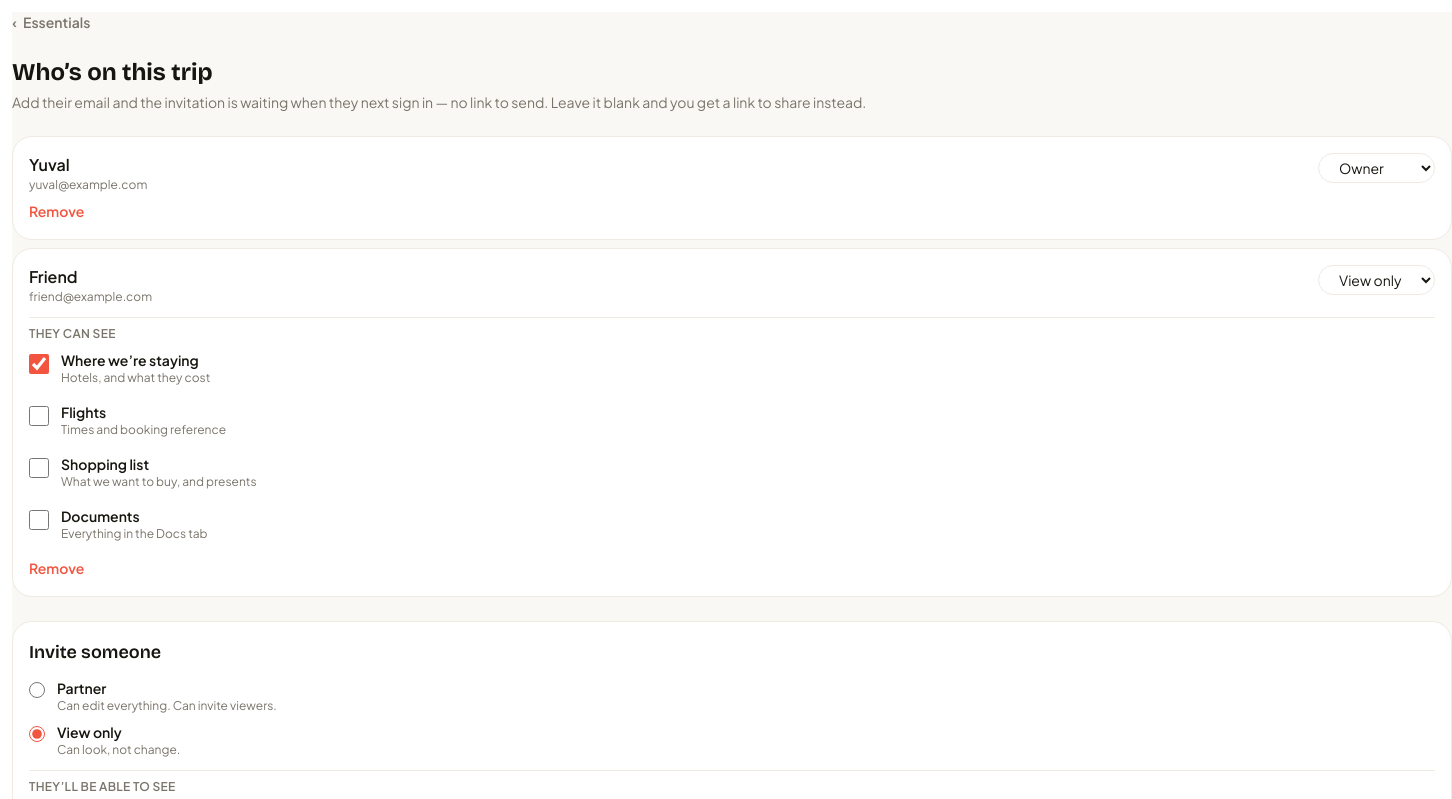
it: the roster adapts to your role › saves a member’s access on a button, not on every click
Check: the text "Friend" is shown, box [29,266,78,287]
Check: the button "Save changes" is not shown
Step 1. Click the checkbox labelled "Flights Times and booking reference" → (39, 416), box [29,406,49,426]
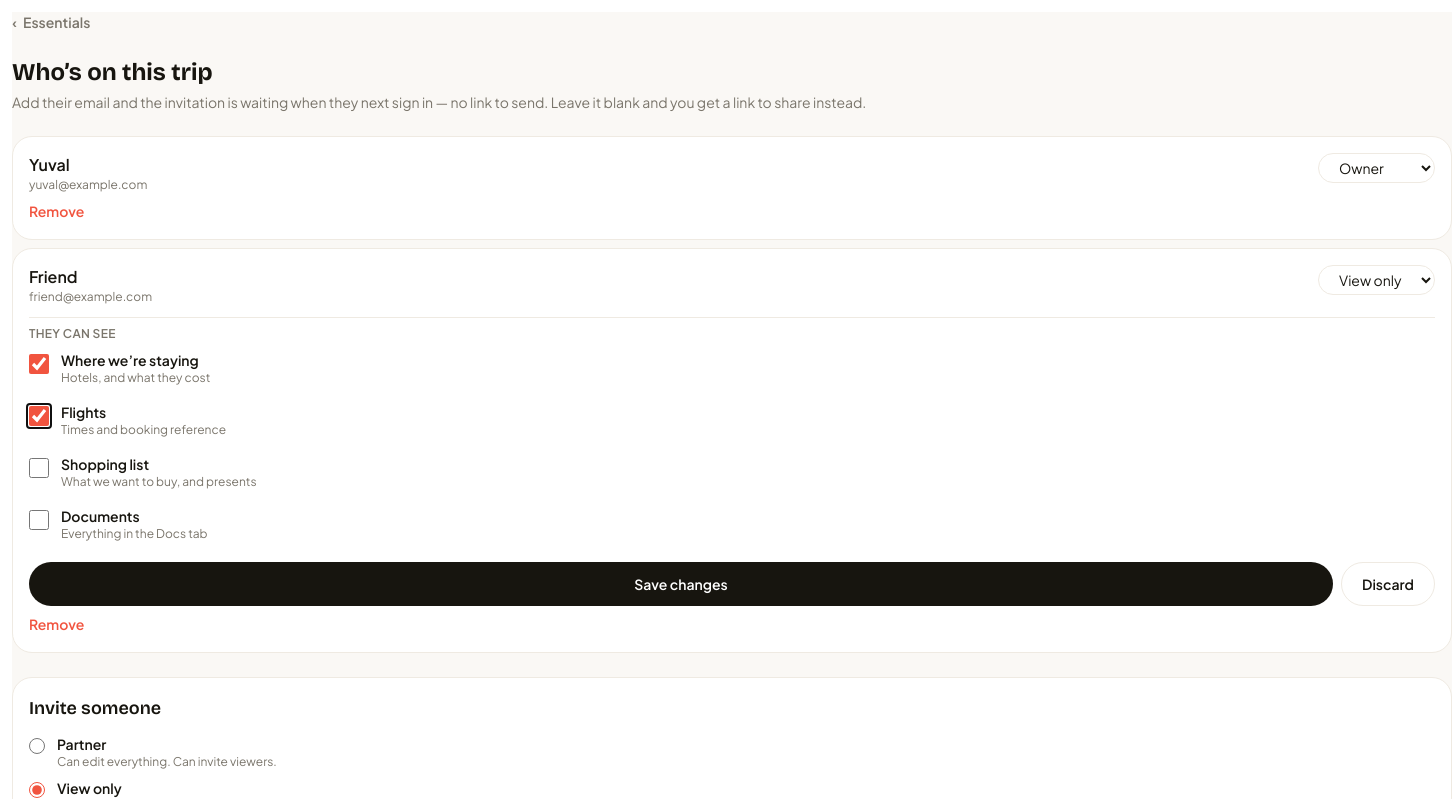
Step 2. Click the button "Save changes" → (681, 584), box [29,562,1333,606]
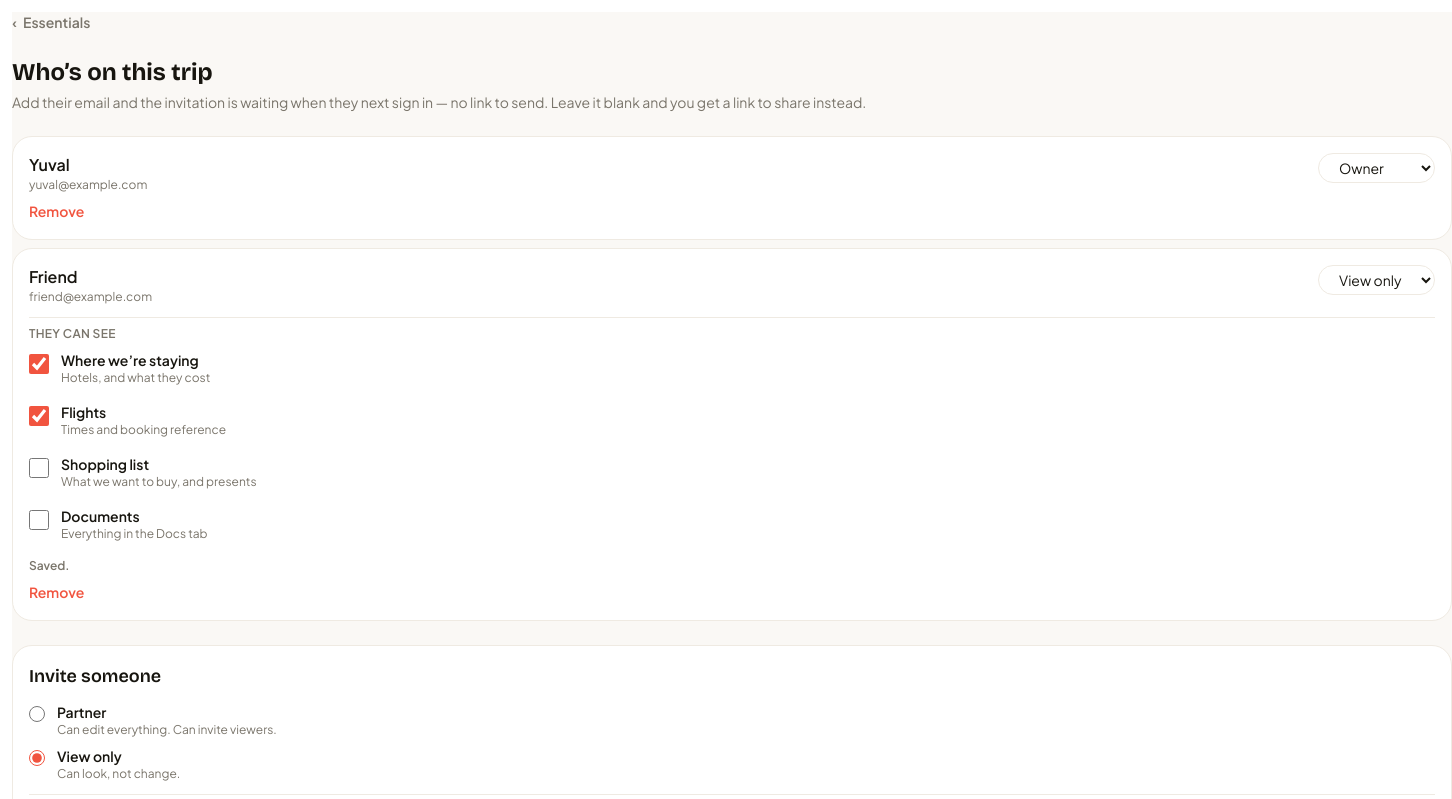
Check: the text "Saved." is shown, box [29,558,70,573]
